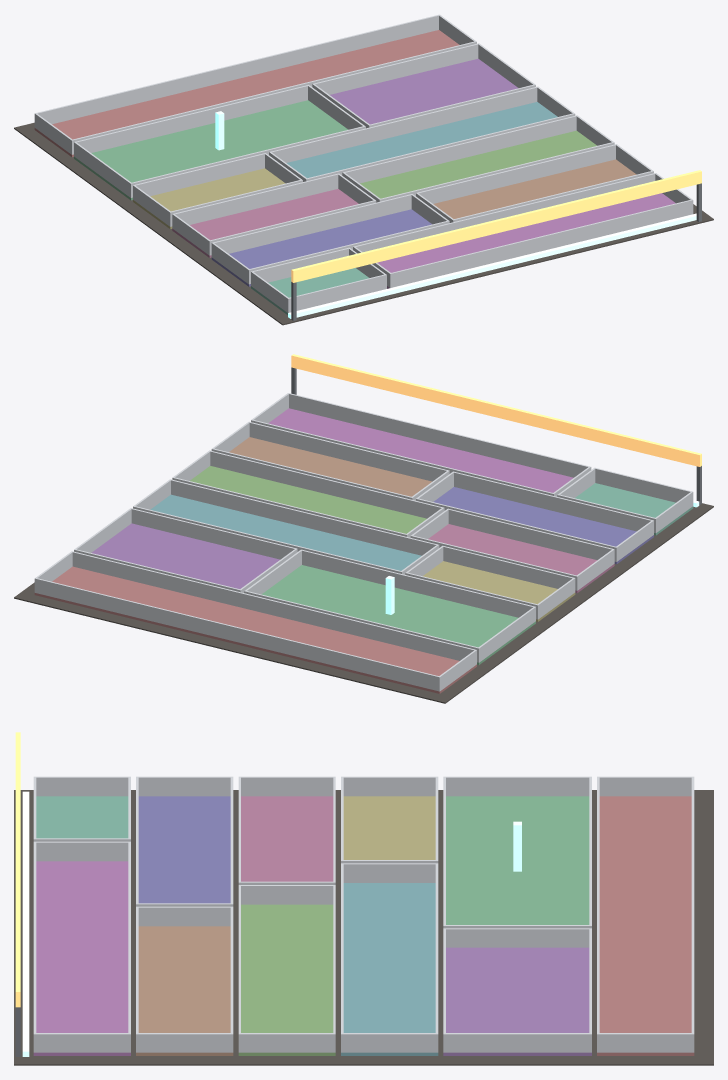
File: hall-lathers.glb
3 views of the same model, one above another, from view 1: azimuth 30°, elevation 25°; view 2: azimuth 150°, elevation 25°; view 3: azimuth 270°, elevation 25° (orthographic). The views are drawn at different scales.
Visible parts, largest first — view 1: Lathers & Metal Framers; view 2: Lathers & Metal Framers; view 3: Lathers & Metal Framers.
Boxes of the visible parts, x1,y1,x2,y2 form: Lathers & Metal Framers: (14,14,713,325); Lathers & Metal Framers: (14,354,713,703); Lathers & Metal Framers: (14,732,713,1065).
Size of the model in its own units: 38 by 4.3 by 41.
